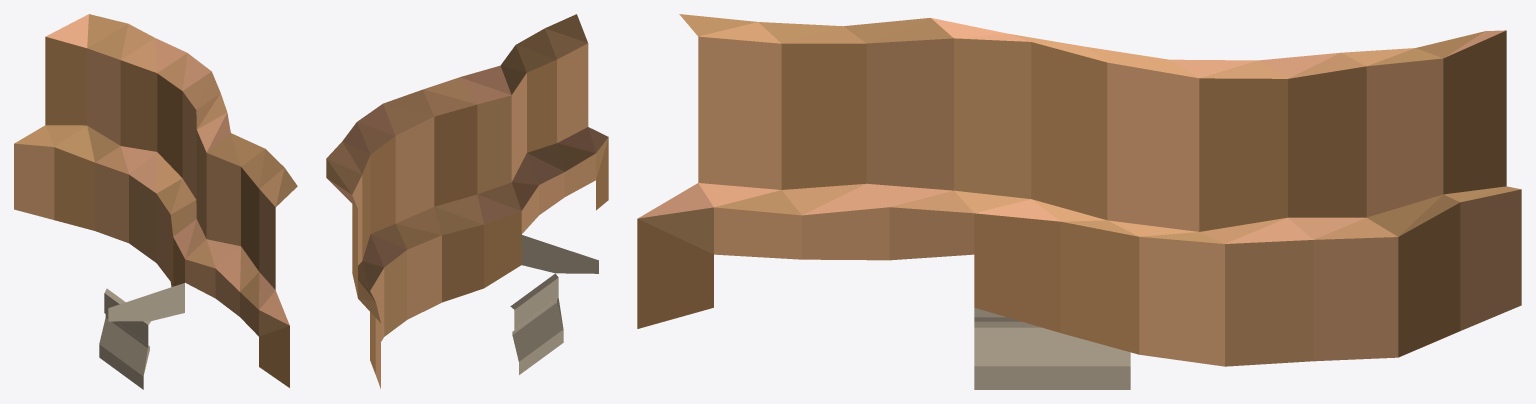
3 views of the same model, side by side, from view 1: azimuth 30°, elevation 25°; view 2: azimuth 150°, elevation 25°; view 3: azimuth 270°, elevation 25° (orthographic). The views are drawn at different scales.
Visible parts, largest first — view 1: O25608; view 2: O25608; view 3: O25608.
Boxes of the visible parts, x1,y1,x2,y2 form: O25608: (14,14,297,389); O25608: (326,14,608,388); O25608: (637,14,1521,389).
Bounding box in the file's own units: 49.92 × 74 × 136.
